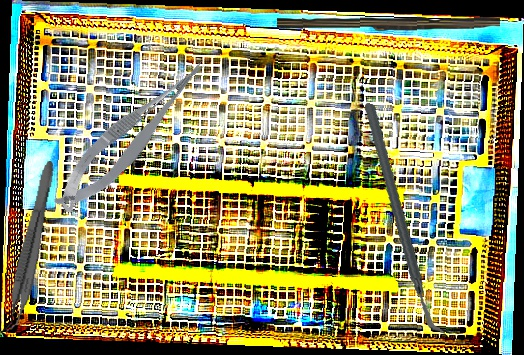Chopper: (334, 102, 476, 337)
Micro Scissor: (39, 53, 226, 221)
Scalpel Handle: (276, 14, 501, 35)
Tissue Forceps: (0, 157, 58, 338)
